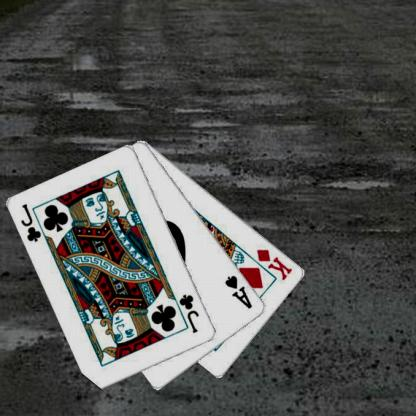AS: (223, 272, 254, 310)
JC: (18, 201, 43, 244), (176, 292, 200, 334)
KD: (254, 246, 294, 282)
